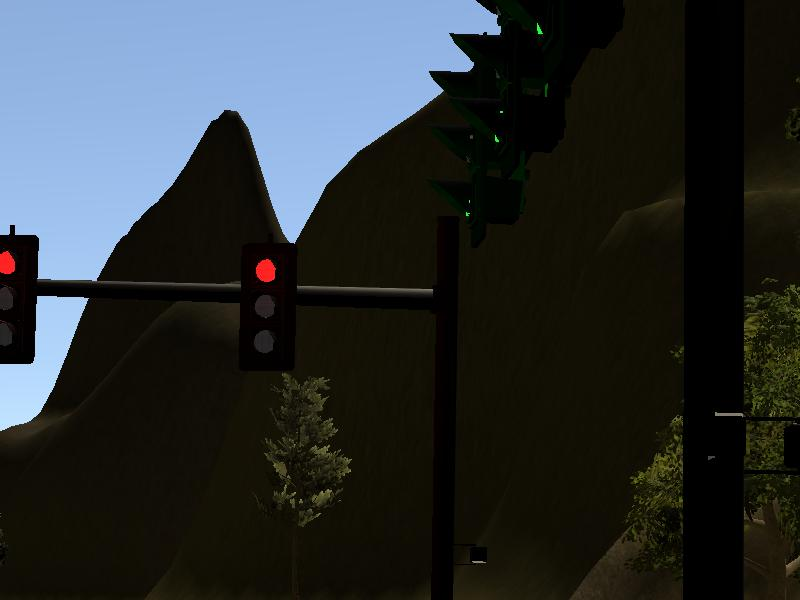red: (245, 242, 295, 366), (1, 233, 38, 363)
